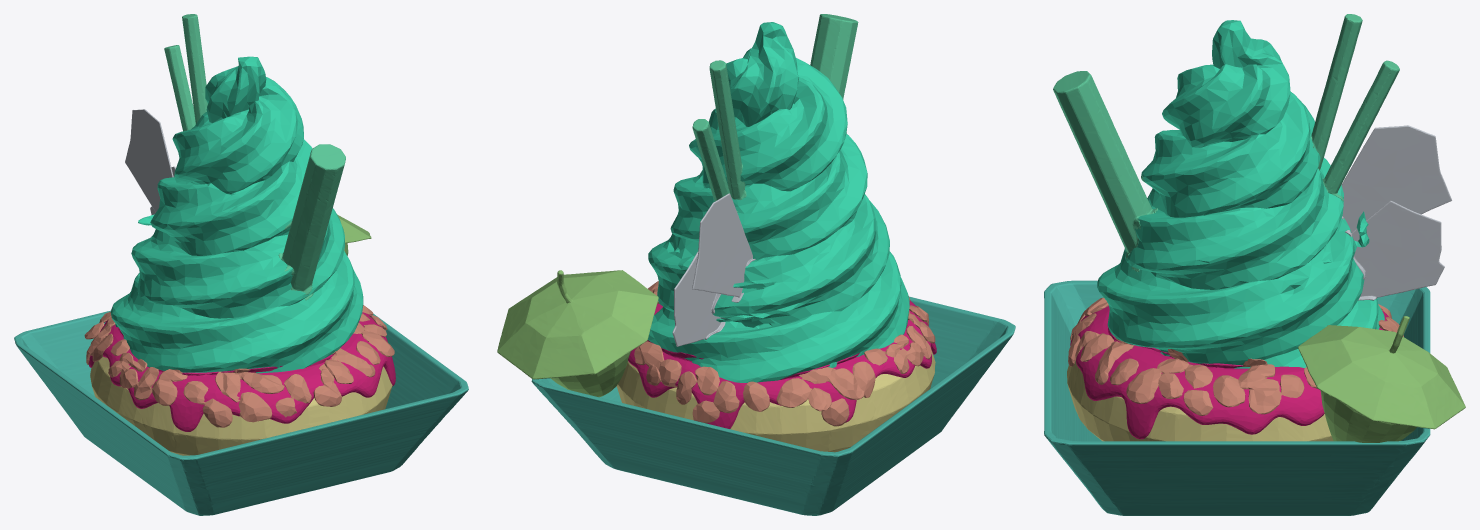
The picture shows the model from 3 angles, left to right: view 1: azimuth 30°, elevation 25°; view 2: azimuth 150°, elevation 25°; view 3: azimuth 270°, elevation 25°; orthographic projection. The views are drawn at different scales.
Visible parts, largest first — view 1: world; view 2: world; view 3: world.
Boxes of the visible parts, x1,y1,x2,y2 form: world: [14, 14, 468, 515]; world: [497, 14, 1015, 515]; world: [1044, 14, 1465, 515].
Bounding box in the file's own units: 1.69 × 1.89 × 1.63.
